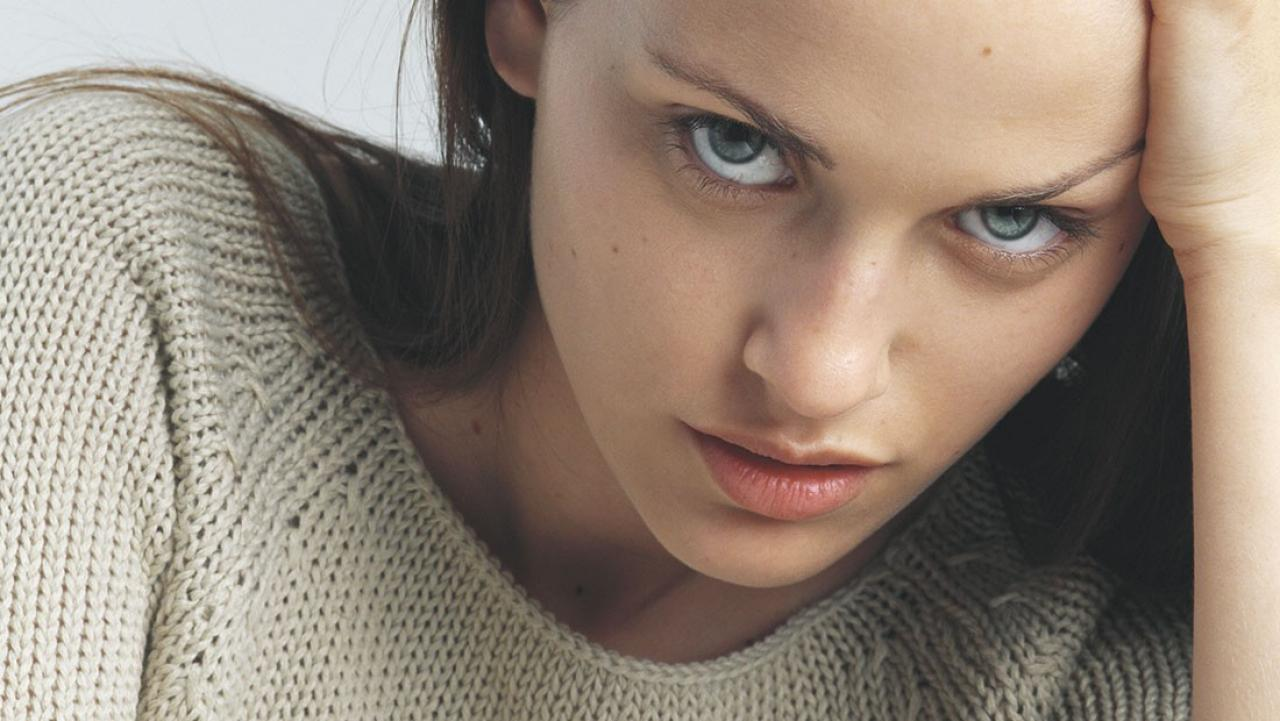human: (1, 4, 1280, 721)
